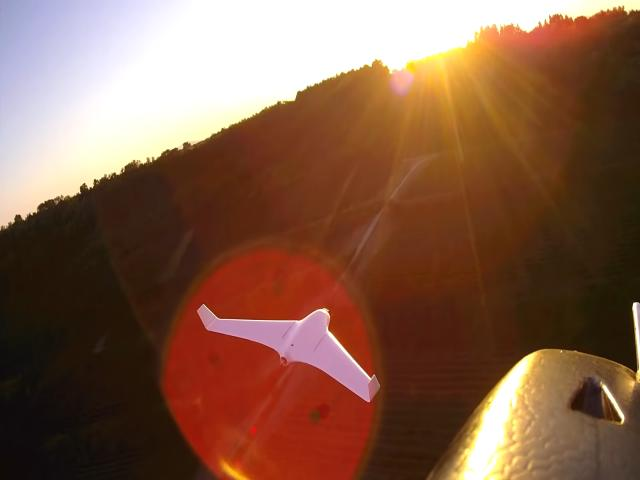plane: (197, 304, 380, 404)
